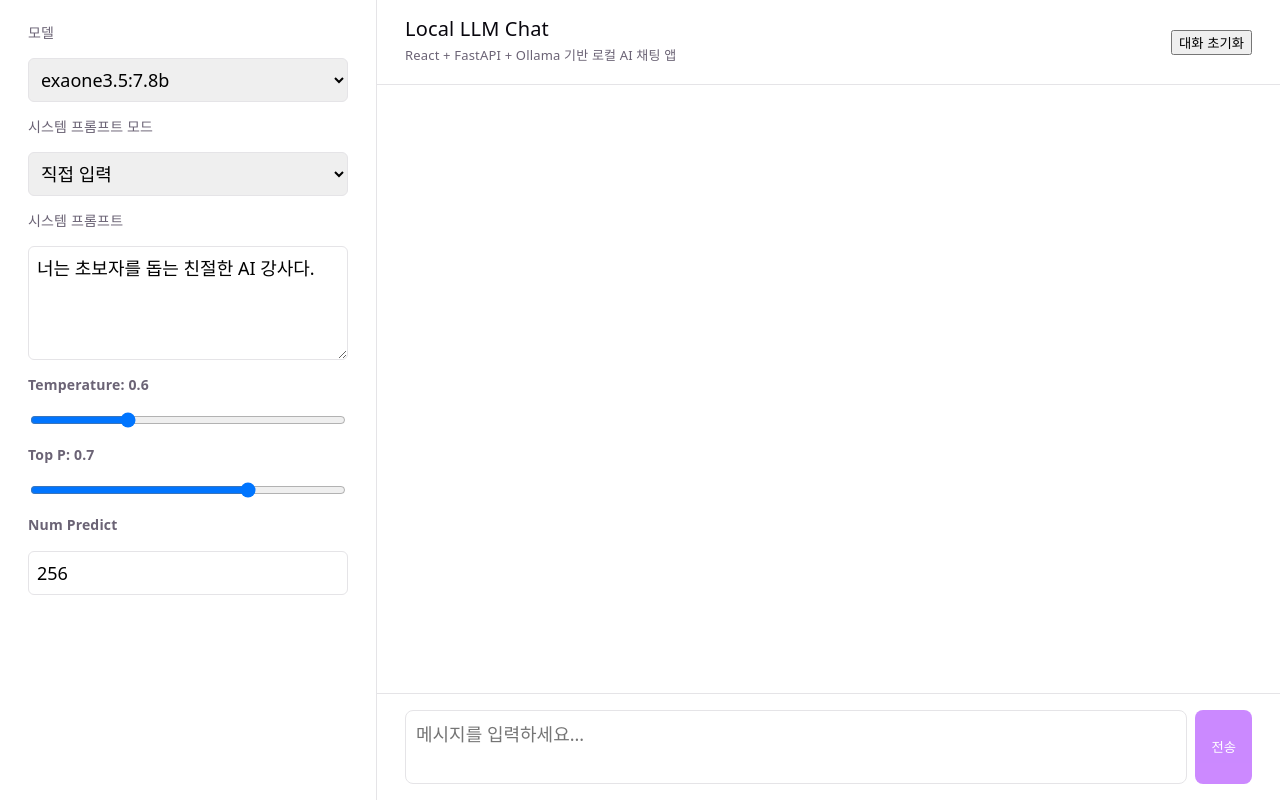
App › SettingsPanel + ChatWindow 통합 (4.11) › "대화 초기화" 클릭 시 messages만 비워진다
The width and height of the screenshot is (1280, 800).
Type "안녕" into the text box with placeholder "메시지를 입력하세요..." at (796,747), box [405, 710, 1188, 784]
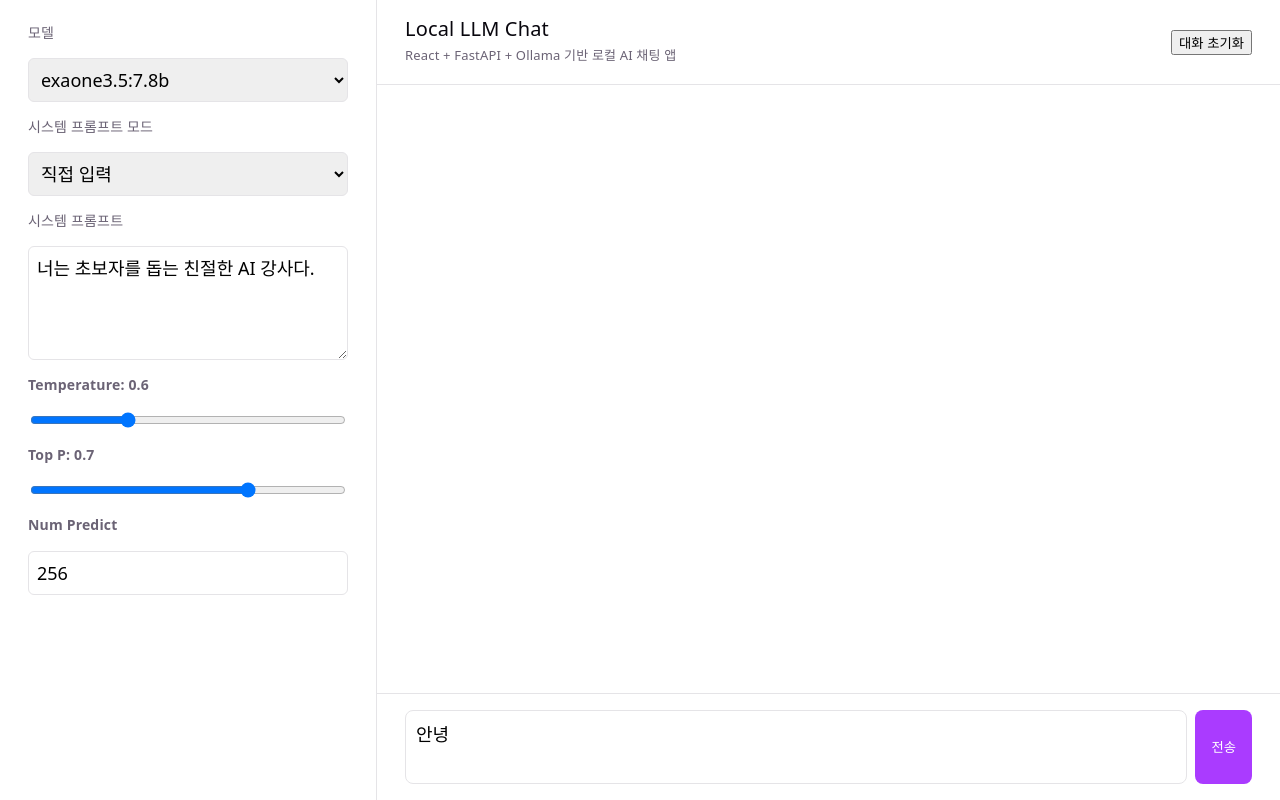
Click the button "전송" at (1224,747), box [1196, 710, 1252, 784]
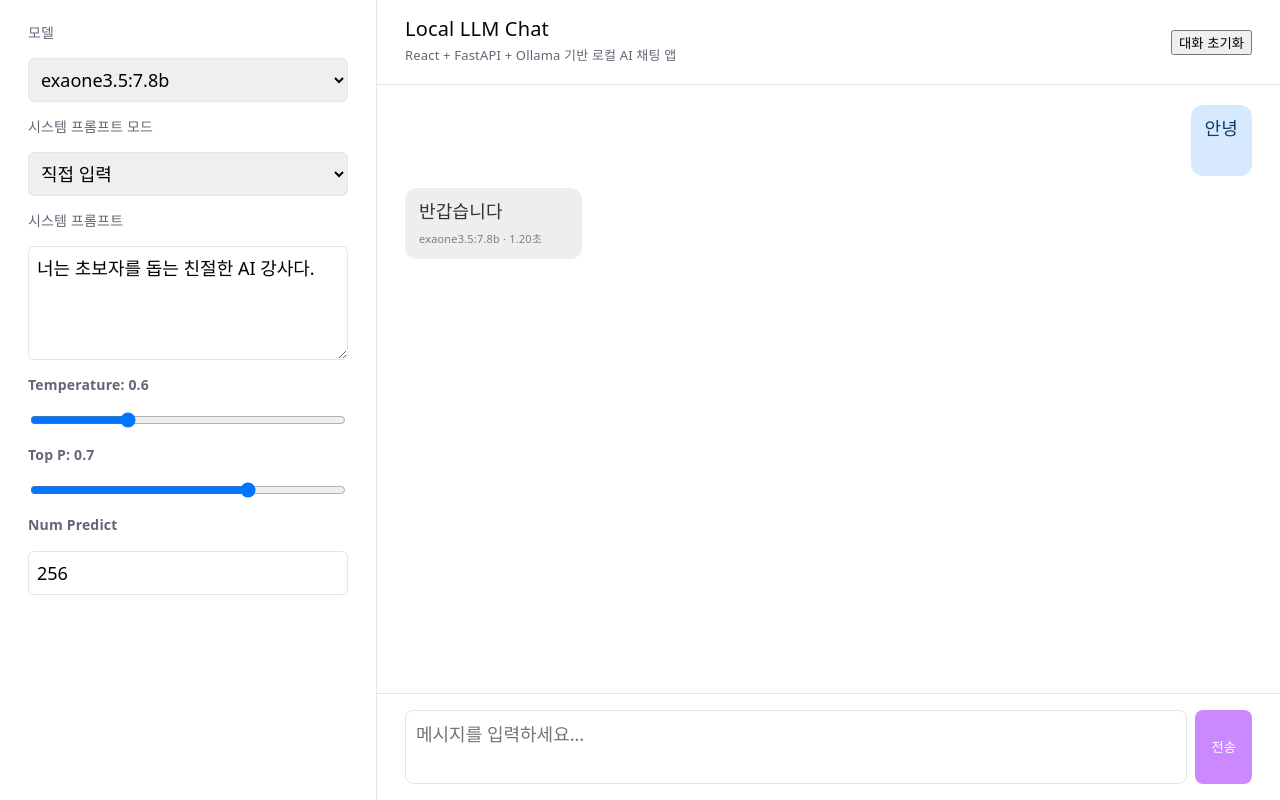
Expected: the text "안녕" is shown, [1204, 115, 1238, 142]
Click the button "대화 초기화" at (1212,42), box [1171, 30, 1252, 55]
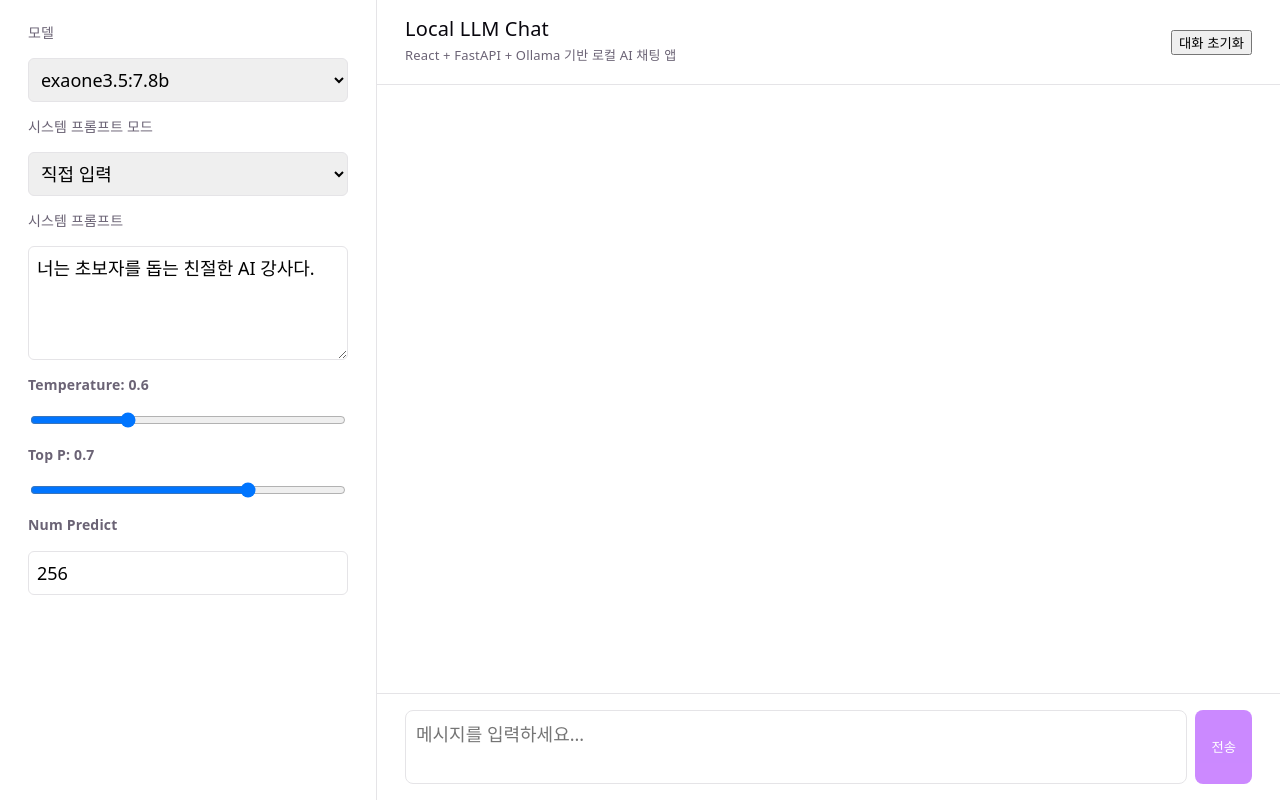
Expected: the dropdown labelled "모델" shows "exaone3.5:7.8b", [28, 58, 348, 102]
Expected: the text "안녕" is gone
